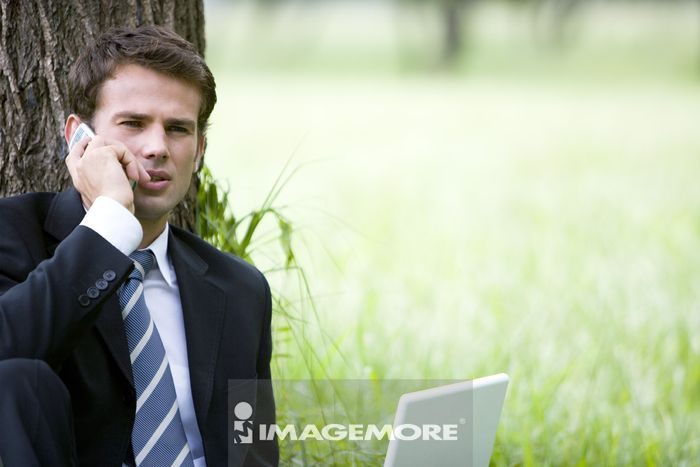talk: (65, 95, 198, 236)
